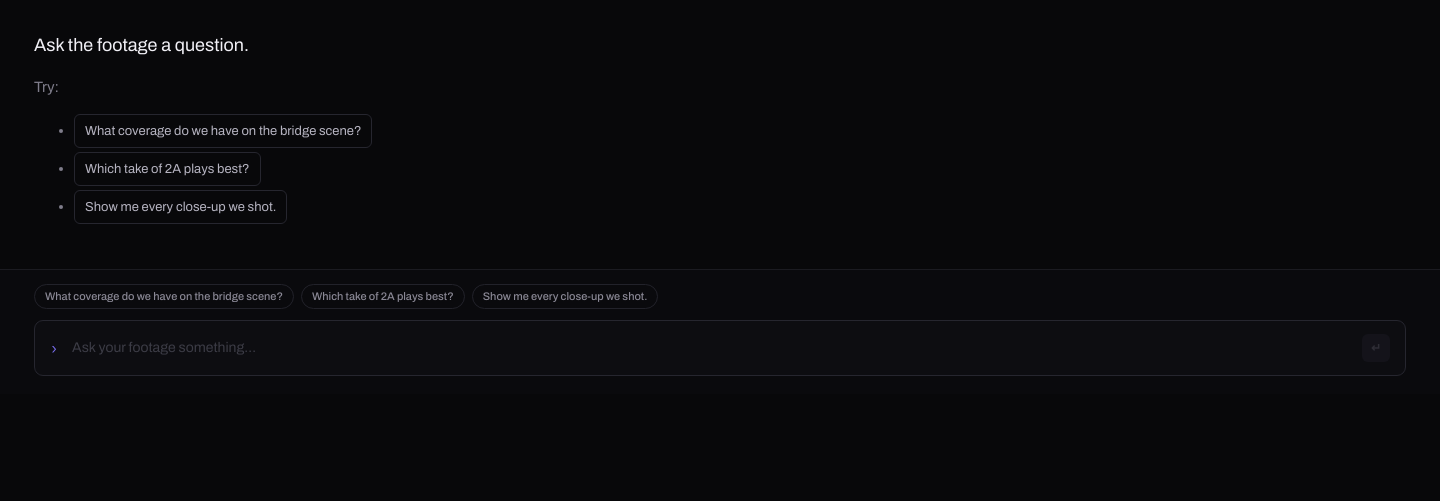
Test: SessionView › renders a coverage-gap callout when get_coverage reports a gap
Type "coverage on S01" into the text box labelled "Ask your footage something" at [710, 348], box [70,336,1350,360]
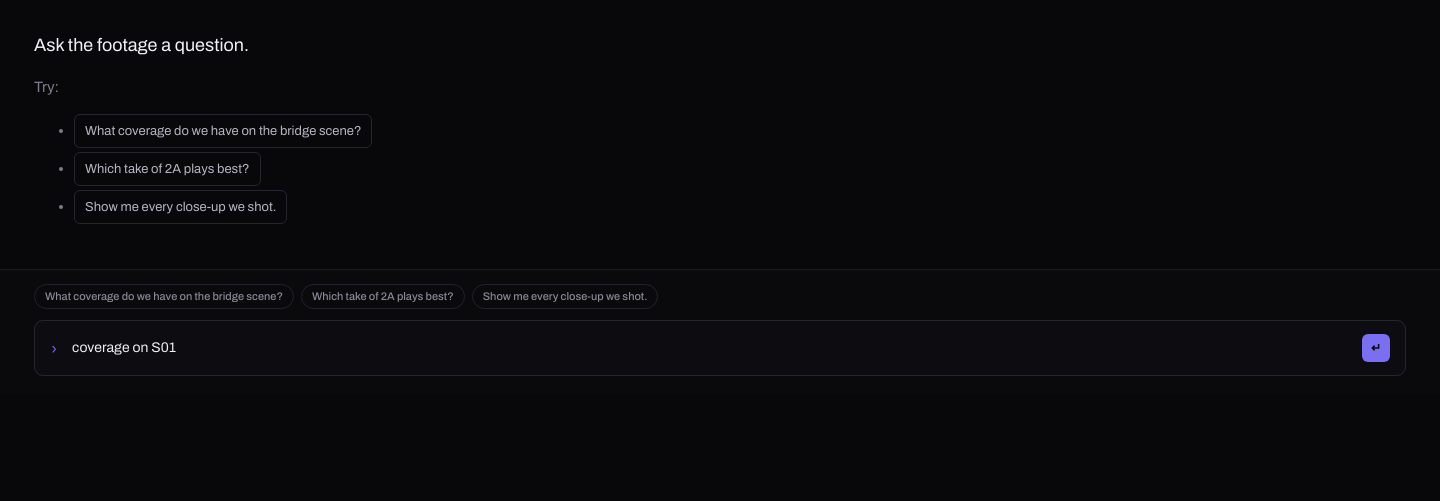
Press Enter in the text box named "Ask your footage something", box [70,336,1350,360]
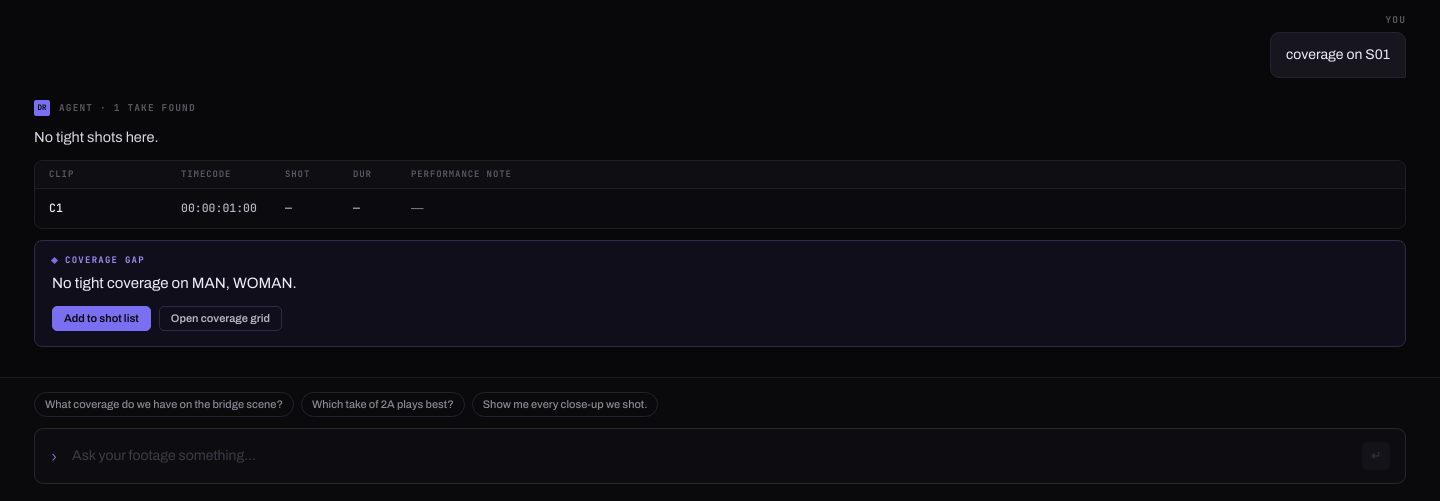
Check: the text "COVERAGE GAP" is shown, box [51,254,145,266]
Check: the text "No tight coverage on MAN, WOMAN." is shown, box [52,275,297,291]
